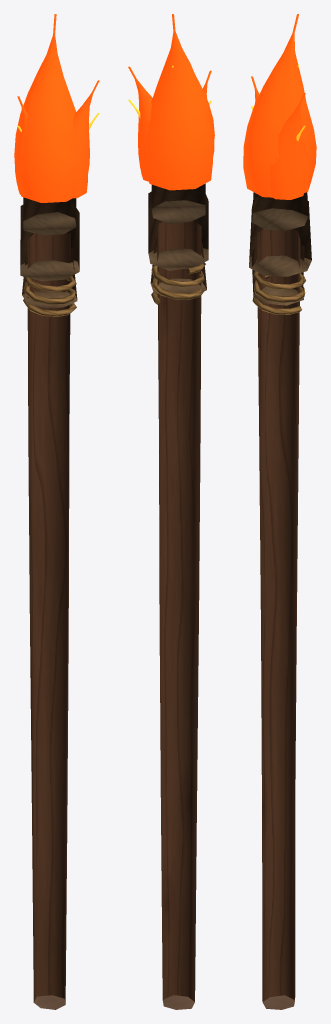
The model's file is torch.glb.
3 renders of one model, left to right at view 1: azimuth 30°, elevation 25°; view 2: azimuth 210°, elevation 25°; view 3: azimuth 330°, elevation 25°, orthographic.
Parts seen in each view (by area): view 1: stick, flame; view 2: stick, flame; view 3: stick, flame.
Part boxes in pixels (x1,y1,x2,y2): stick: [20, 197, 79, 1009]; flame: [14, 14, 99, 202]; stick: [148, 183, 208, 1009]; flame: [128, 14, 214, 190]; stick: [249, 192, 311, 1009]; flame: [243, 14, 316, 199].
Bounding box in the file's own units: 0.1464 × 1.99 × 0.1325.
5 materials, 3 textured.
